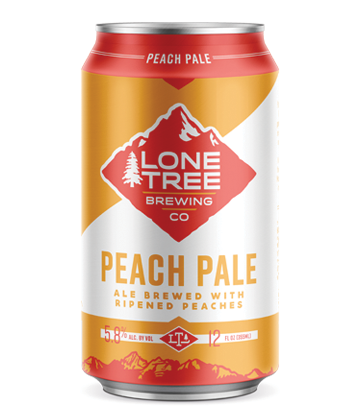beer can: (80, 17, 283, 401)
